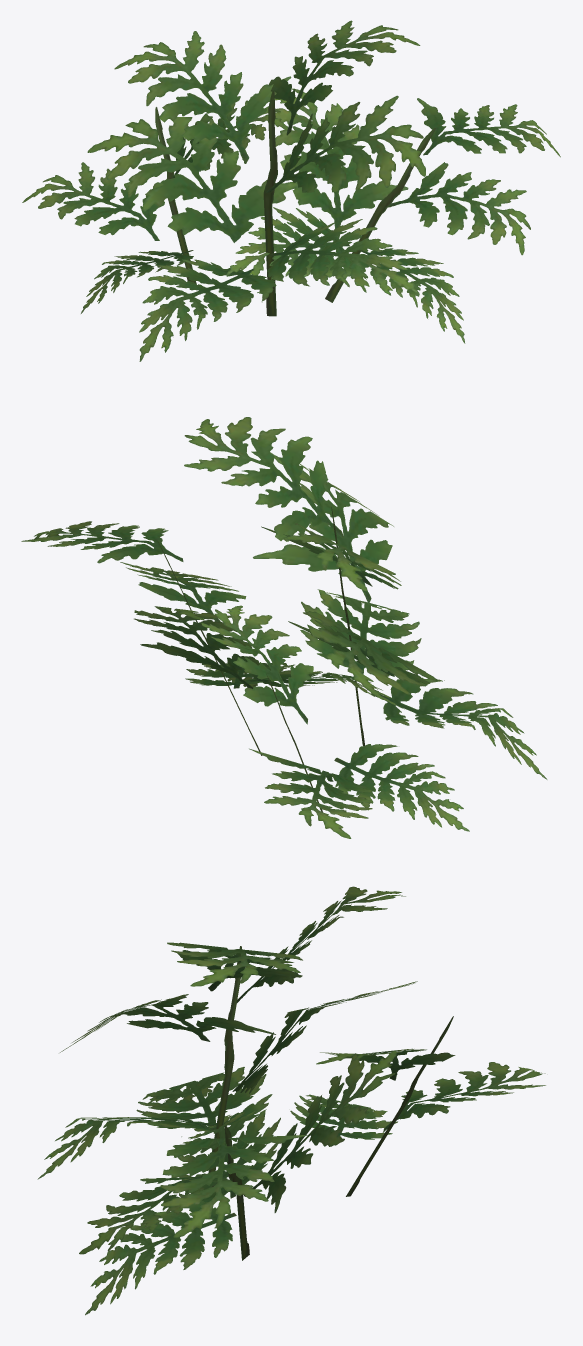
Rendered from zhiwu_12.FBX.
3 renders of one model, top to bottom at view 1: azimuth 30°, elevation 25°; view 2: azimuth 150°, elevation 25°; view 3: azimuth 270°, elevation 25°, orthographic. The views are drawn at different scales.
Parts seen in each view (by area): view 1: zhiwu_12; view 2: zhiwu_12; view 3: zhiwu_12.
Boxes of the visible parts, left/top/right/bottom form: zhiwu_12: left=22, top=20, right=560, bottom=361; zhiwu_12: left=21, top=417, right=547, bottom=838; zhiwu_12: left=37, top=886, right=545, bottom=1315.
Bounding box in the file's own units: 141 × 87.82 × 124.
